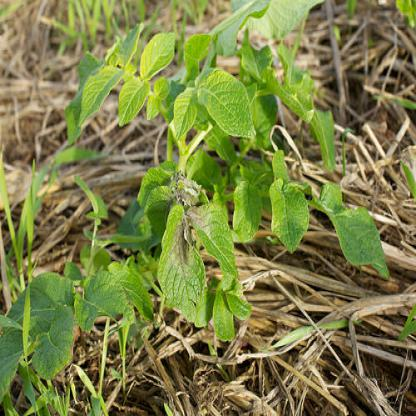Potato leaf late blight: (153, 197, 209, 330), (187, 199, 241, 284)
